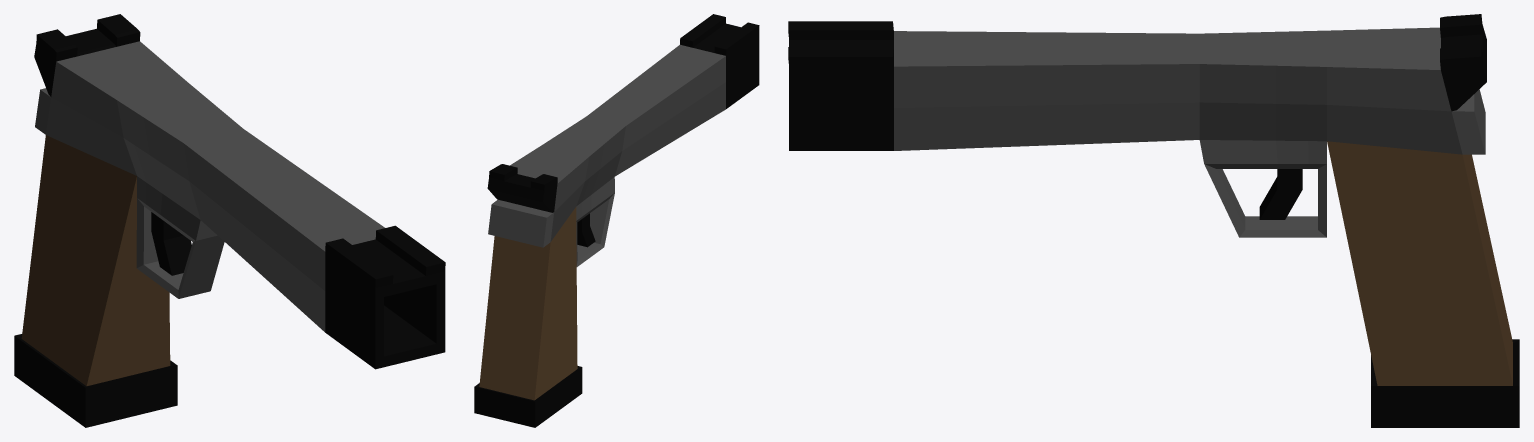
File: pistol_001.fbx
The picture shows the model from 3 angles, left to right: view 1: azimuth 30°, elevation 25°; view 2: azimuth 150°, elevation 25°; view 3: azimuth 270°, elevation 25°; orthographic projection. The views are drawn at different scales.
Visible parts, largest first — view 1: Cube; view 2: Cube; view 3: Cube.
Part boxes in pixels (x1=…): Cube: x1=14, y1=14, x2=445, y2=427; Cube: x1=474, y1=14, x2=759, y2=427; Cube: x1=788, y1=14, x2=1519, y2=427.
Size of the model in its own units: 131 by 482 by 866.
